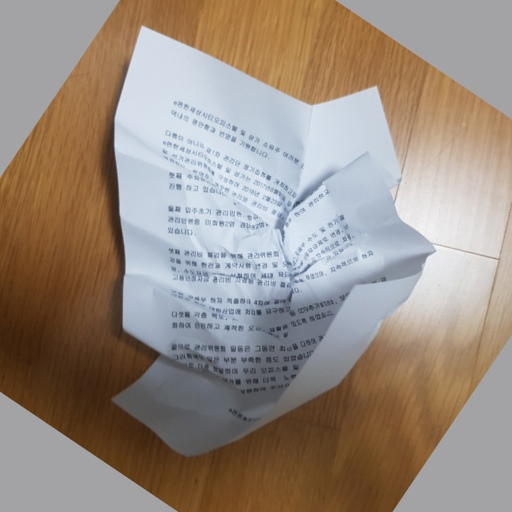Paper_3: (78, 21, 470, 468)
